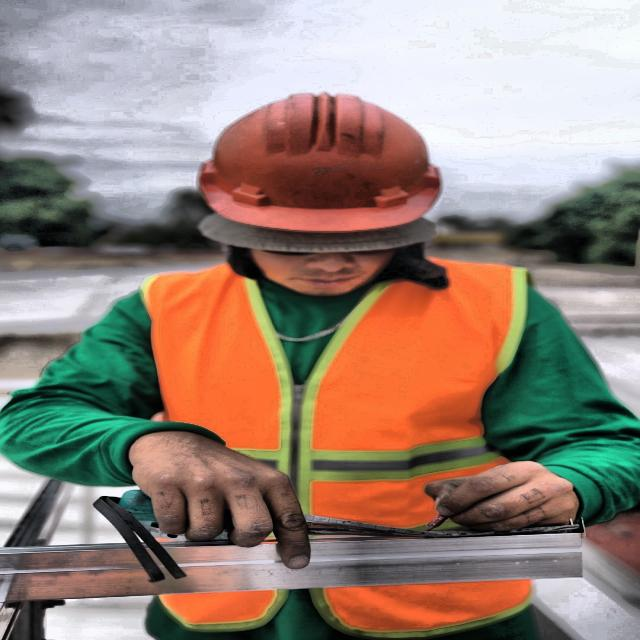not-gloved: (112, 428, 348, 574), (413, 443, 592, 552)
